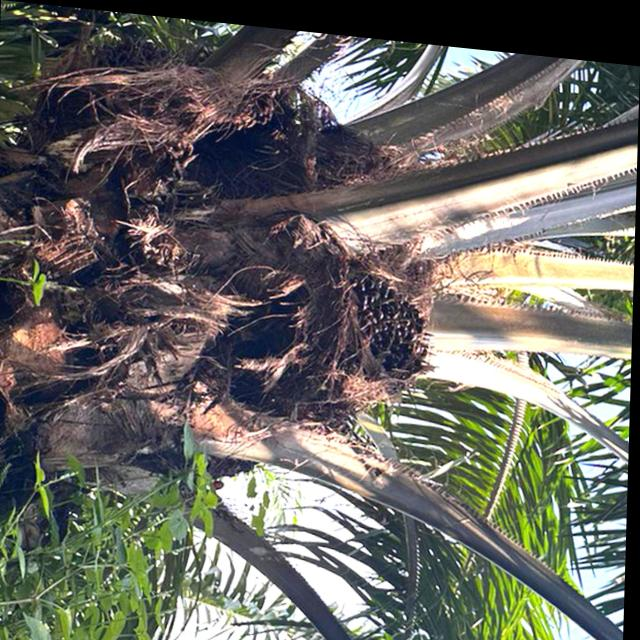ripe: (328, 253, 442, 385)
